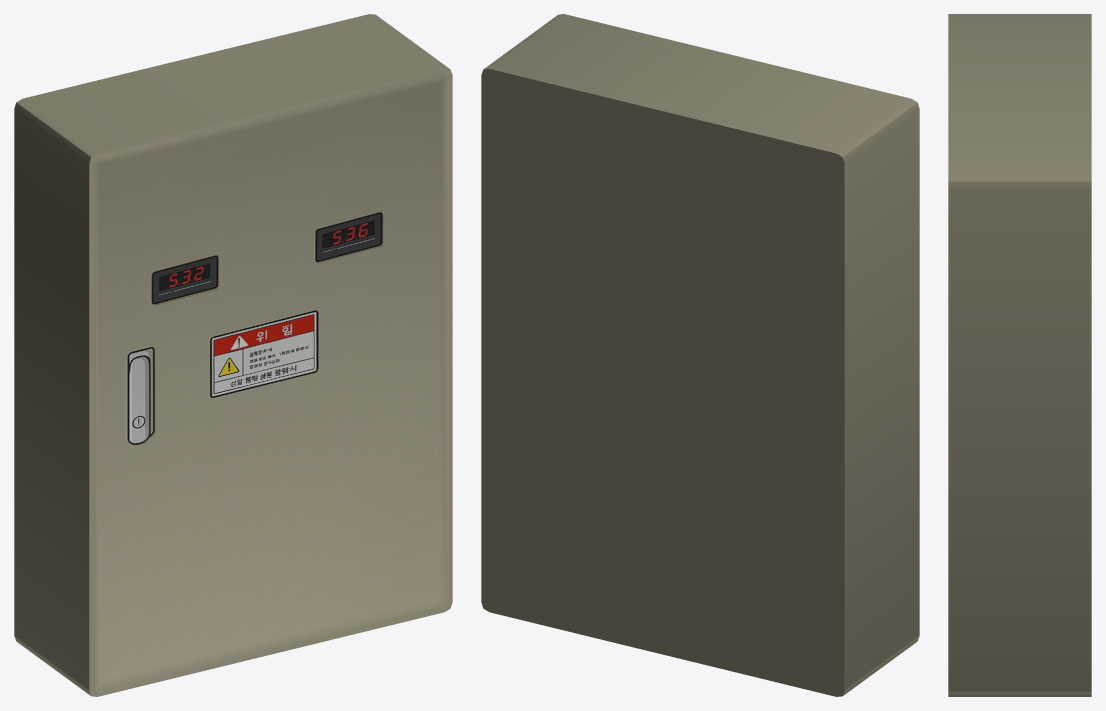
3 views of the same model, side by side, from view 1: azimuth 30°, elevation 25°; view 2: azimuth 150°, elevation 25°; view 3: azimuth 270°, elevation 25° (orthographic). The views are drawn at different scales.
Visible parts, largest first — view 1: PLC본체(전원환경감시)041; view 2: PLC본체(전원환경감시)041; view 3: PLC본체(전원환경감시)041.
Boxes of the visible parts, x1,y1,x2,y2 form: PLC본체(전원환경감시)041: (14,14,452,696); PLC본체(전원환경감시)041: (481,14,919,696); PLC본체(전원환경감시)041: (948,14,1091,696).
Bounding box in the file's own units: 0.7 × 1 × 0.25.
2 materials, 1 textured.
